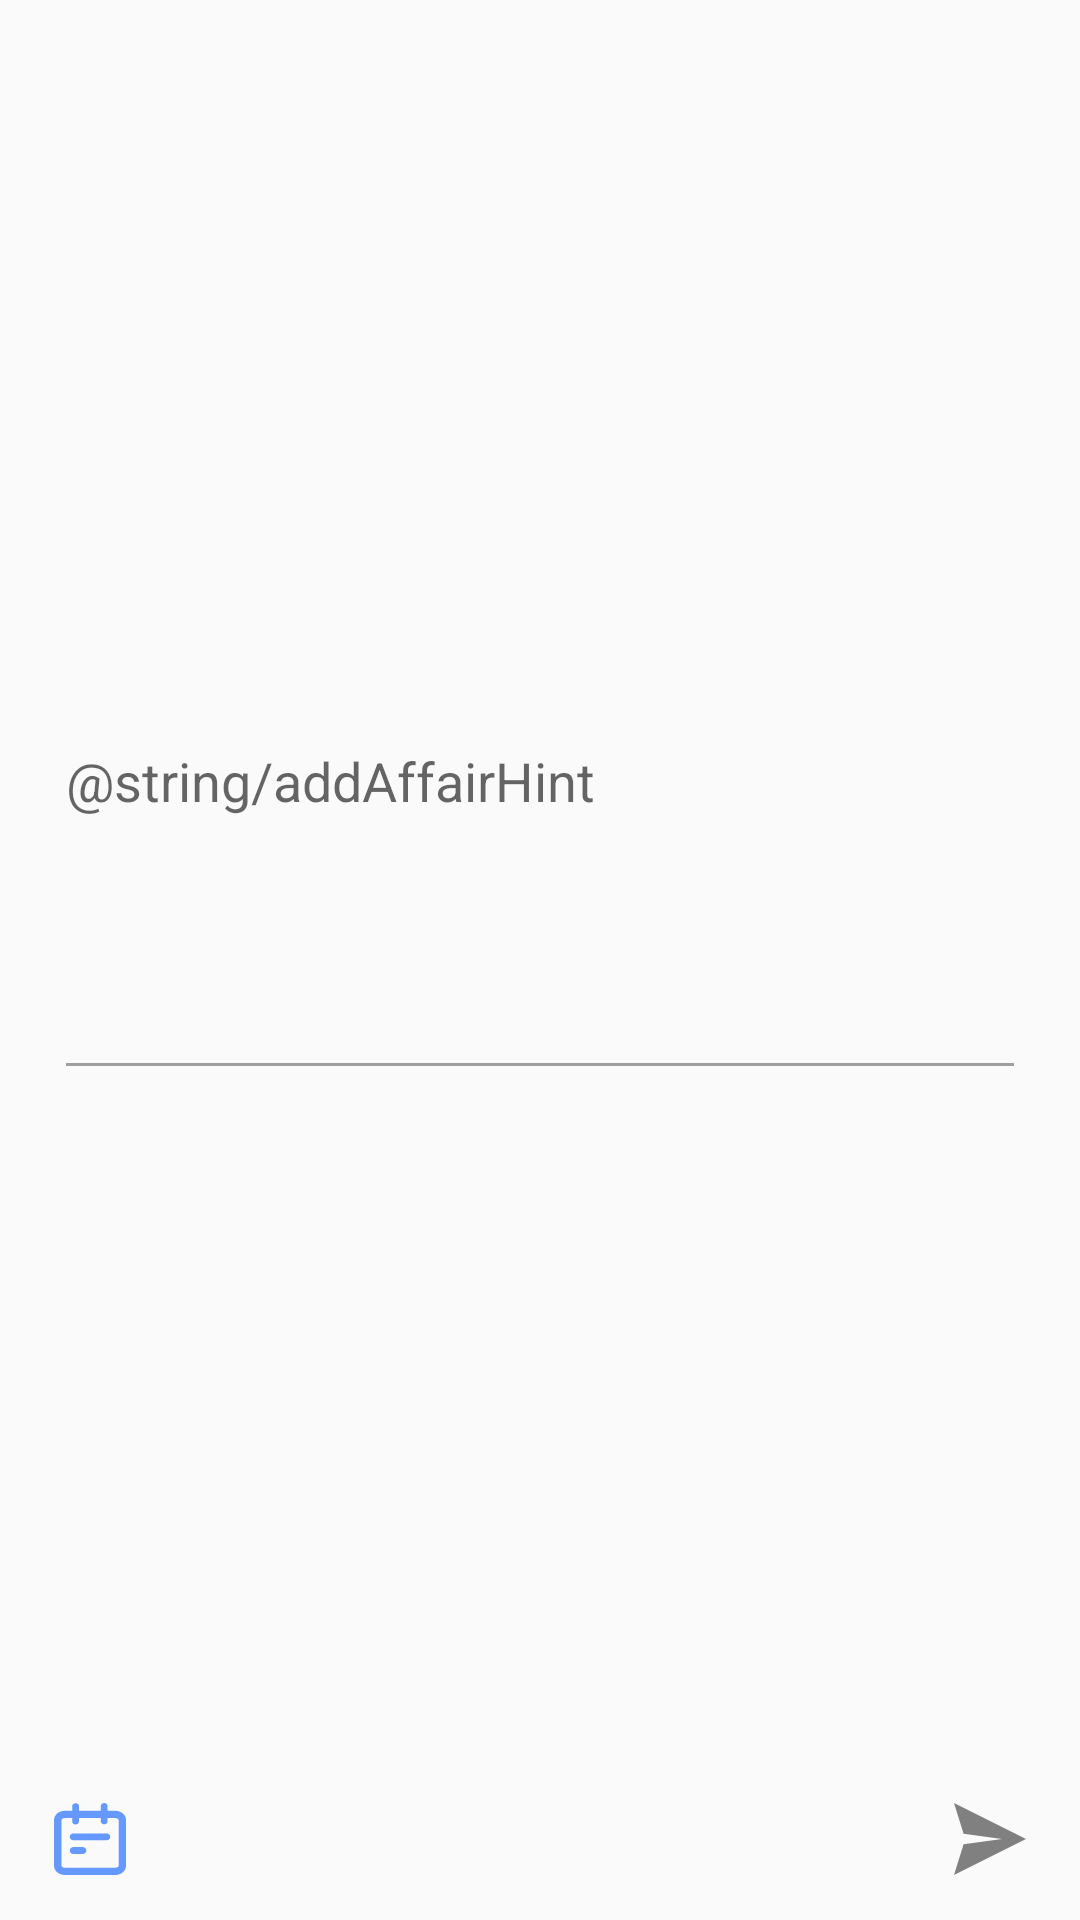

Point at icon controls on the screen. Image size 1080px x 1920px, points as (x=x, y=y).
calendar: (x=90, y=1839)
